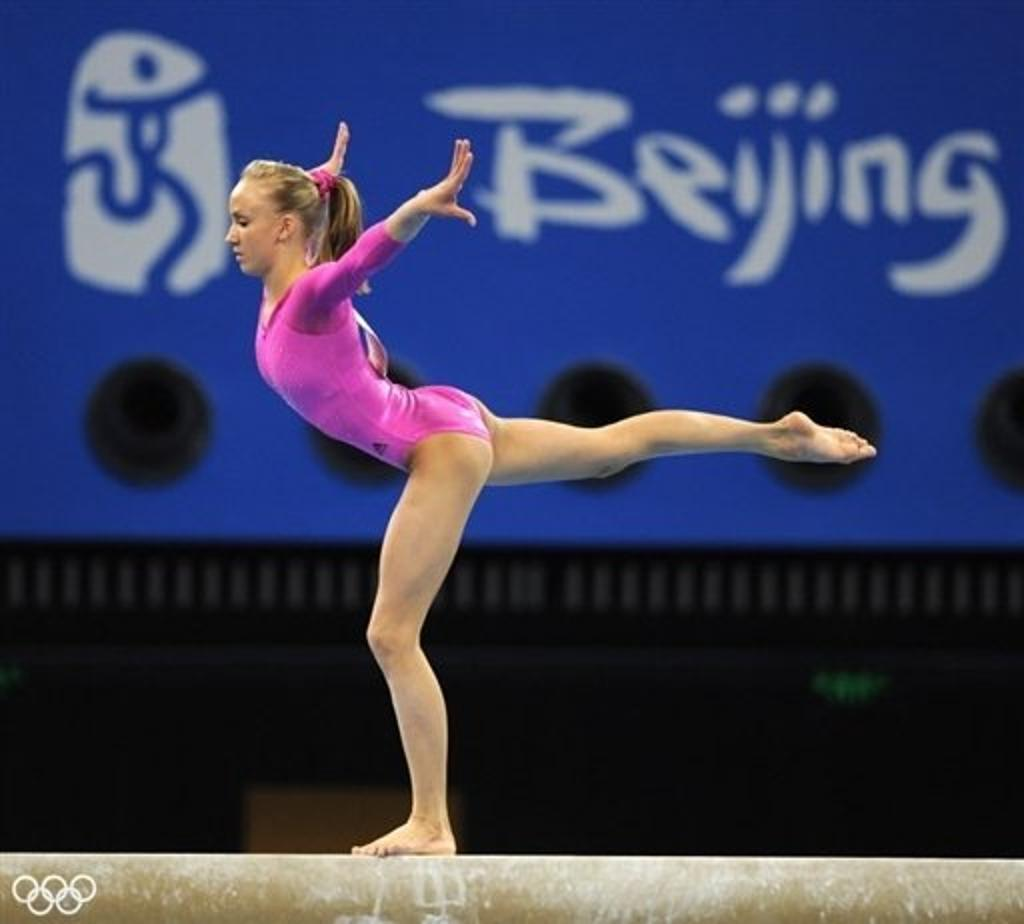face: (225, 181, 281, 281)
